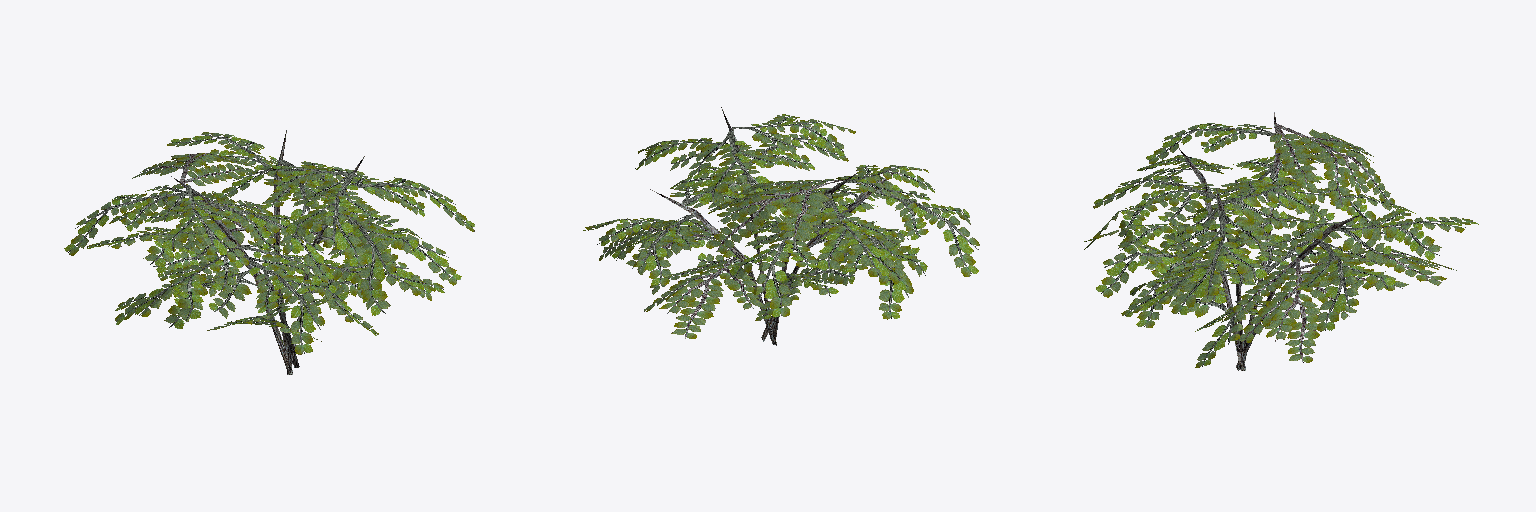
3 renders of one model, left to right at view 1: azimuth 30°, elevation 25°; view 2: azimuth 150°, elevation 25°; view 3: azimuth 270°, elevation 25°, orthographic.
Visible parts, largest first — view 1: polySurface126; view 2: polySurface126; view 3: polySurface126.
Part boxes in pixels (left/top/right/bottom): polySurface126: left=64, top=130, right=474, bottom=374; polySurface126: left=583, top=107, right=979, bottom=345; polySurface126: left=1084, top=112, right=1478, bottom=370.
Size of the model in its own units: 56.43 by 31.25 by 57.08.
1 materials, 1 textured.